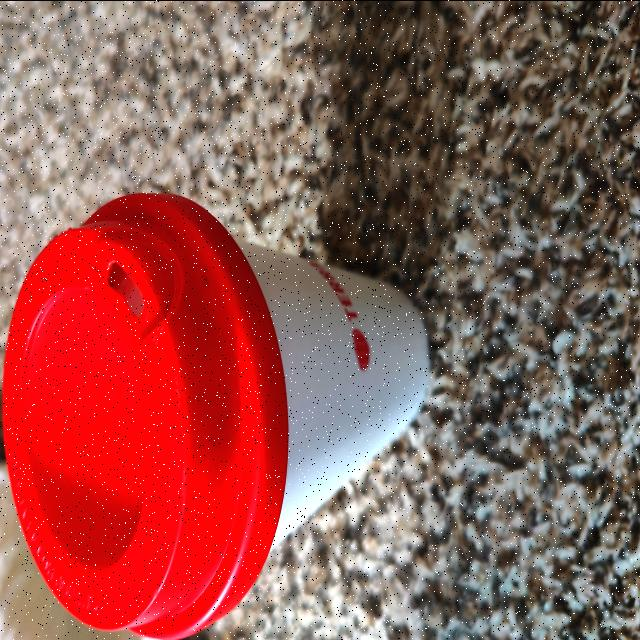mug: (6, 256, 423, 620)
